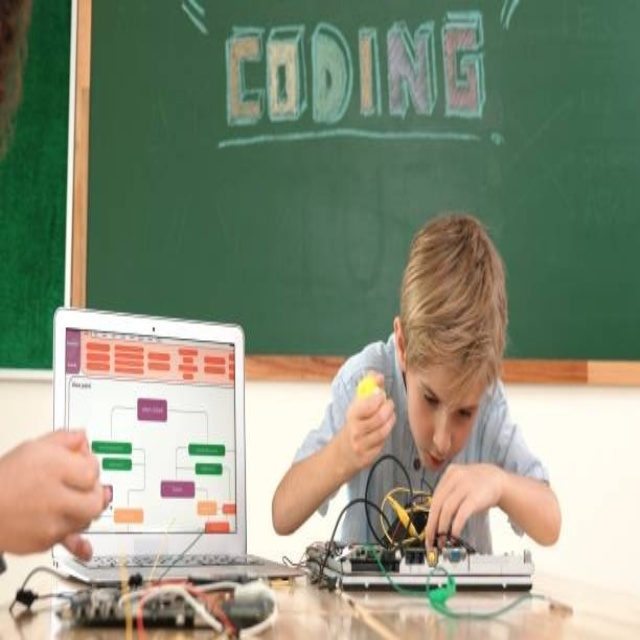Sin_gafas: (413, 368, 478, 424)
Sin_guantes: (0, 427, 112, 562), (425, 458, 501, 553)
Sin_mascara: (421, 441, 449, 476)
